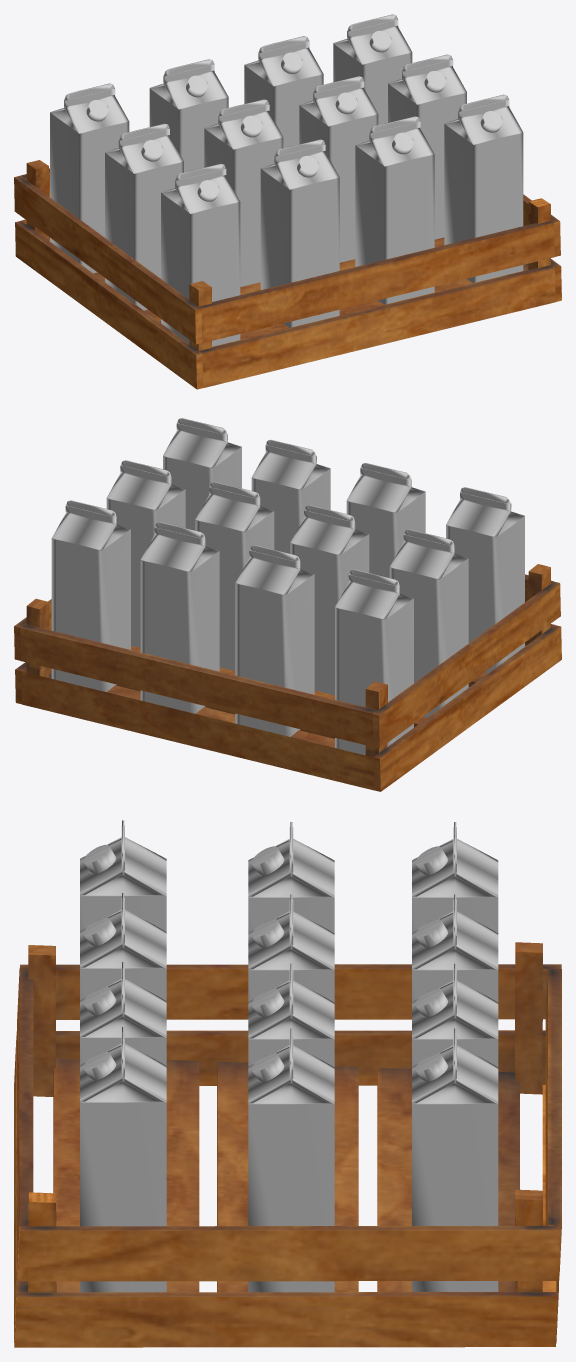
File: Orange_Juice.fbx
3 views of the same model, one above another, from view 1: azimuth 30°, elevation 25°; view 2: azimuth 150°, elevation 25°; view 3: azimuth 270°, elevation 25° (orthographic). The views are drawn at different scales.
Parts seen in each view (by area): view 1: Rack.011, Orang Juice.010, Orang Juice.009, Orang Juice.011, Orang Juice.008, Orang Juice.004, Orang Juice, Orang Juice.005, Orang Juice.006, Orang Juice.007, Orang Juice.001, Orang Juice.002 (+1 smaller); view 2: Rack.011, Orang Juice.001, Orang Juice.002, Orang Juice.003, Orang Juice, Orang Juice.008, Orang Juice.004, Orang Juice.005, Orang Juice.006, Orang Juice.009, Orang Juice.007, Orang Juice.010 (+1 smaller); view 3: Rack.011, Orang Juice.011, Orang Juice.007, Orang Juice.003, Orang Juice.004, Orang Juice, Orang Juice.008, Orang Juice.005, Orang Juice.001, Orang Juice.009, Orang Juice.006, Orang Juice.002 (+1 smaller).
Part boxes in pixels (bbox=[...]): Rack.011: bbox=[14, 160, 561, 389]; Orang Juice.010: bbox=[355, 116, 434, 304]; Orang Juice.009: bbox=[260, 139, 339, 327]; Orang Juice.011: bbox=[444, 94, 523, 282]; Orang Juice.008: bbox=[161, 163, 240, 346]; Orang Juice.004: bbox=[105, 123, 183, 310]; Orang Juice: bbox=[50, 83, 129, 273]; Orang Juice.005: bbox=[204, 99, 283, 286]; Orang Juice.006: bbox=[299, 76, 378, 262]; Orang Juice.007: bbox=[388, 54, 466, 239]; Orang Juice.001: bbox=[149, 59, 228, 172]; Orang Juice.002: bbox=[244, 36, 323, 148]; Rack.011: bbox=[14, 564, 561, 791]; Orang Juice.001: bbox=[235, 545, 314, 736]; Orang Juice.002: bbox=[140, 522, 219, 713]; Orang Juice.003: bbox=[51, 500, 130, 691]; Orang Juice: bbox=[335, 569, 413, 755]; Orang Juice.008: bbox=[446, 487, 524, 673]; Orang Juice.004: bbox=[389, 529, 468, 717]; Orang Juice.005: bbox=[290, 505, 369, 695]; Orang Juice.006: bbox=[195, 482, 274, 670]; Orang Juice.009: bbox=[346, 463, 425, 577]; Orang Juice.007: bbox=[106, 460, 185, 647]; Orang Juice.010: bbox=[251, 439, 330, 553]; Rack.011: bbox=[14, 942, 561, 1347]; Orang Juice.011: bbox=[80, 1027, 166, 1292]; Orang Juice.007: bbox=[248, 1028, 334, 1292]; Orang Juice.003: bbox=[412, 1028, 498, 1291]; Orang Juice.004: bbox=[248, 822, 334, 932]; Orang Juice: bbox=[412, 822, 498, 932]; Orang Juice.008: bbox=[80, 820, 166, 930]; Orang Juice.005: bbox=[248, 894, 334, 1001]; Orang Juice.001: bbox=[412, 894, 498, 1001]; Orang Juice.009: bbox=[80, 893, 166, 1000]; Orang Juice.006: bbox=[248, 963, 334, 1066]; Orang Juice.002: bbox=[412, 963, 498, 1066].
Size of the model in its own units: 0.6471 by 0.314 by 0.563.
